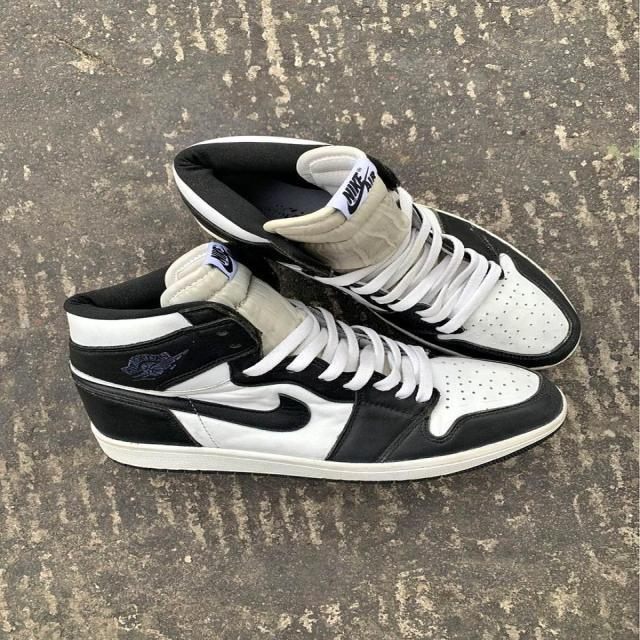nike fake jordan 1: (62, 240, 578, 485), (165, 133, 584, 372)
